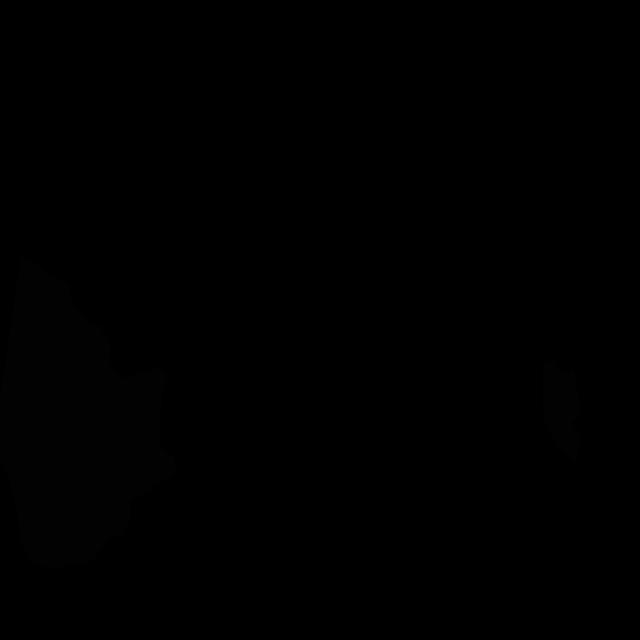cardboard: (0, 257, 176, 569), (543, 358, 582, 461)
